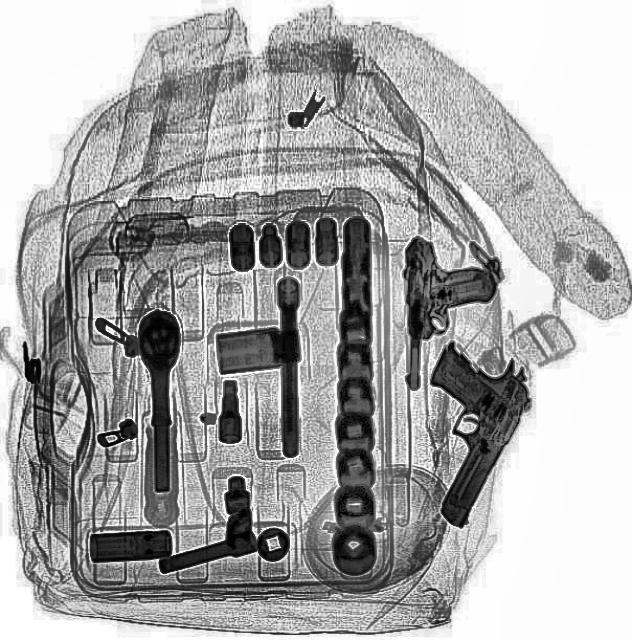Gun: (365, 332, 547, 530), (402, 234, 496, 390)
